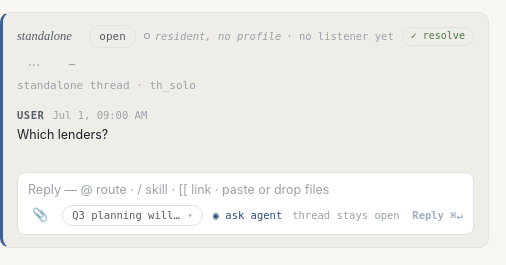
designating a resident › releases a general resident without naming a profile it does not have
This screenshot has width=506, height=265.
Expected: the element with class "t-resident" is shown, [144,29,394,44]
Right-click the element with class "thread-card" at (244, 130), box [0,12,489,248]
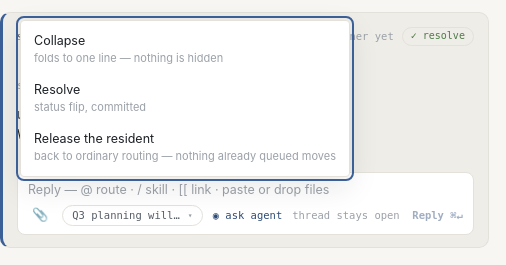
Expected: the text "Q3 planning" is not shown
Expected: the menu item that starts with "Release the resident" is shown
Click the menu item that starts with "Release the resident". click: (185, 148)
box: [25,123,345,172]
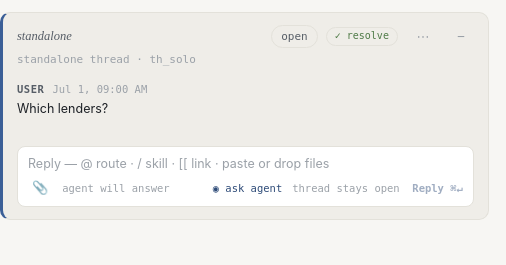
Expected: the element with class "t-resident" is gone
